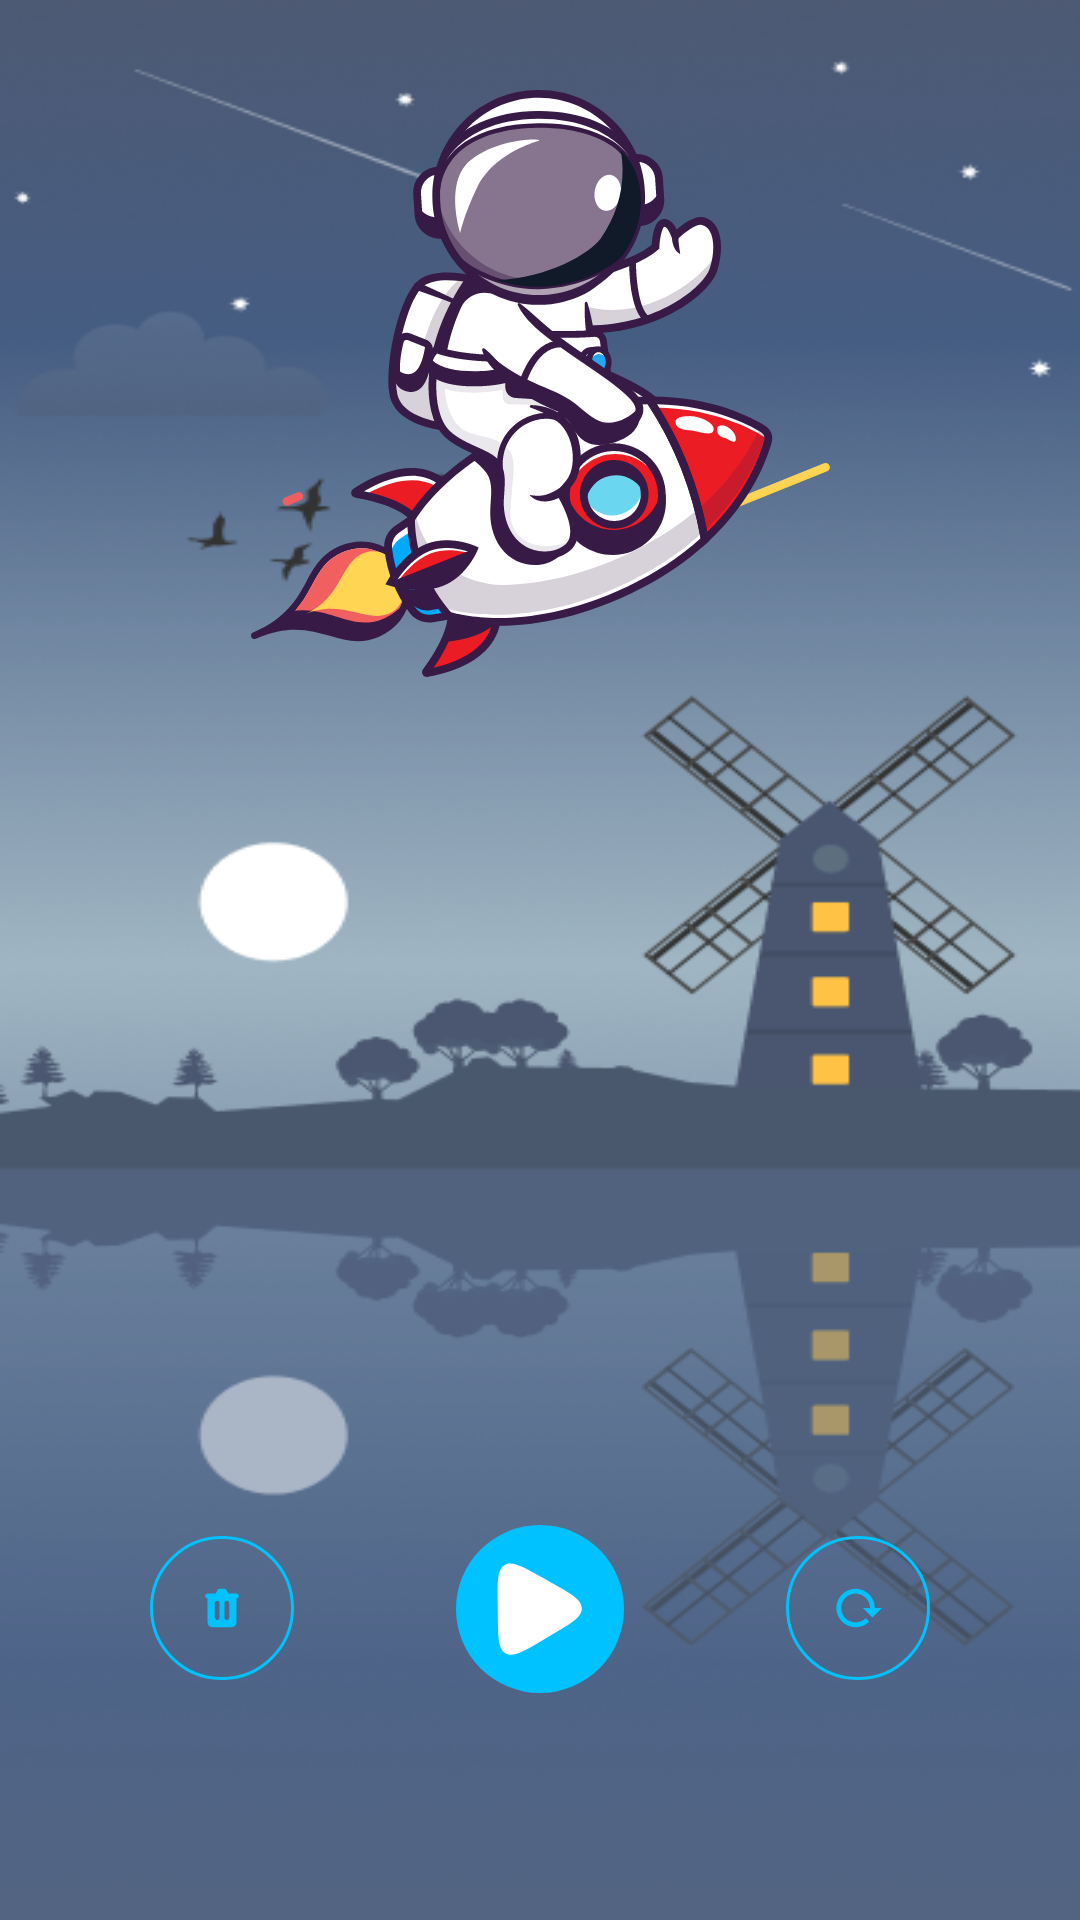

Icons on this 1080 × 1920 Android screen, each with the point to tap as (x=x, y=y):
delete time: (x=222, y=1608)
reload time: (x=858, y=1608)
